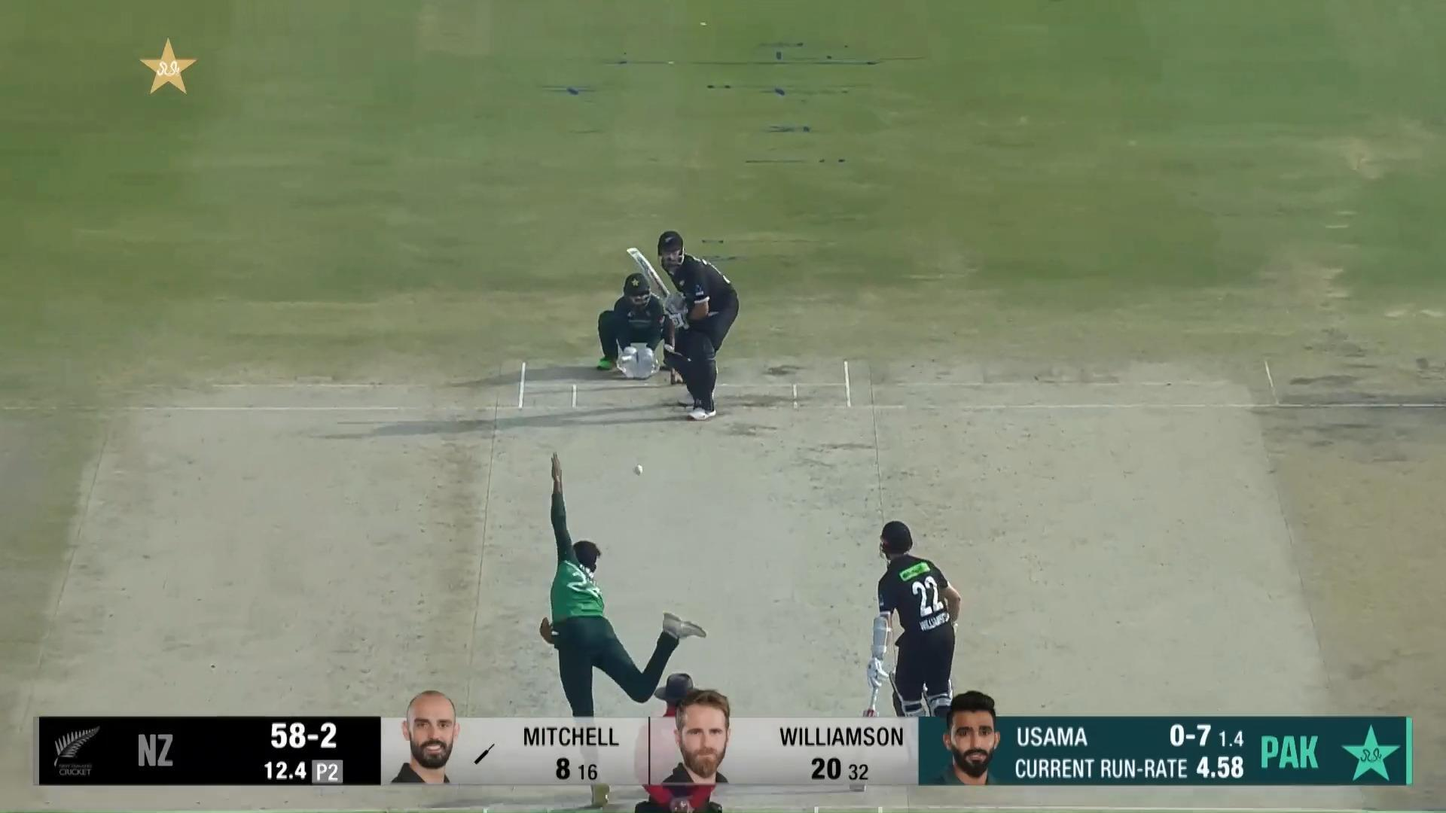BM 1: (627, 230, 738, 421)
BO: (538, 450, 708, 809)
